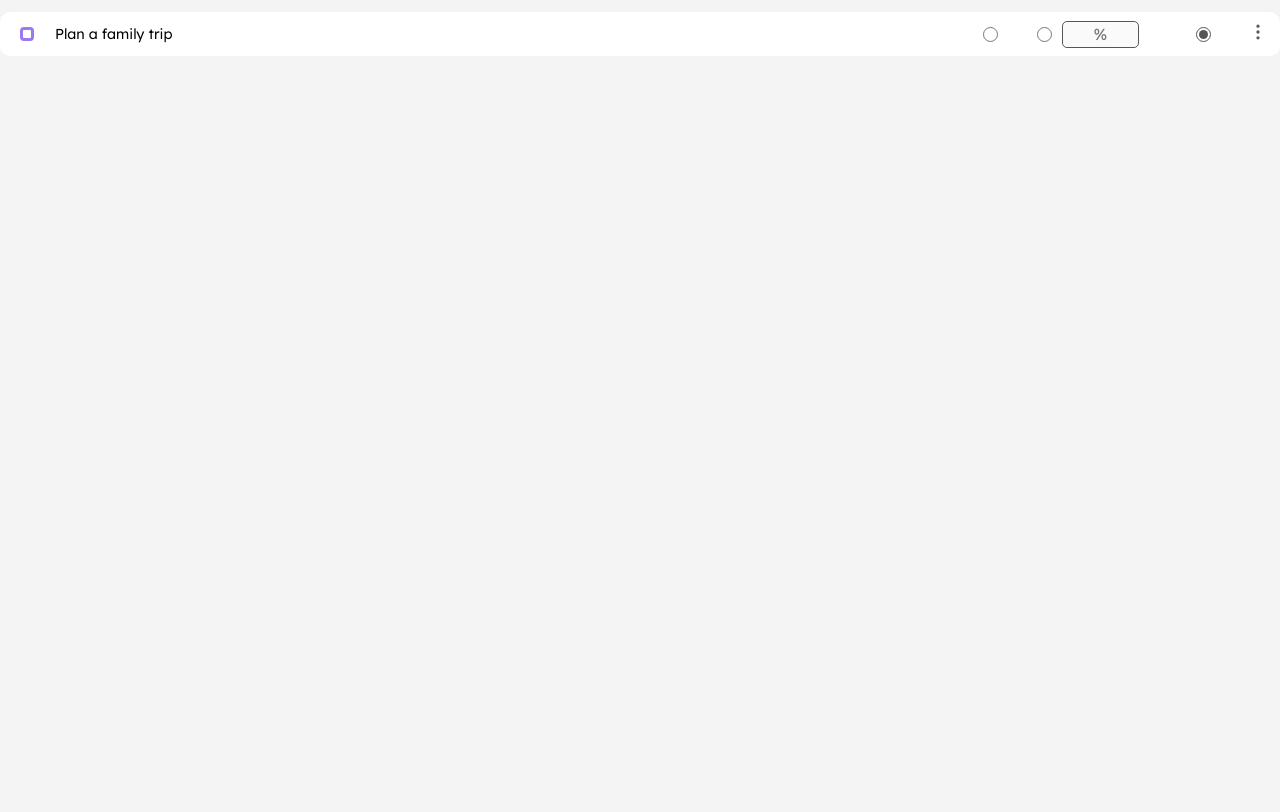
it: TaskCard › should close dropdown menu when clicking outside that element
Click the picture named "menu_vertical" at (1258, 32), box [1246,12,1270,52]
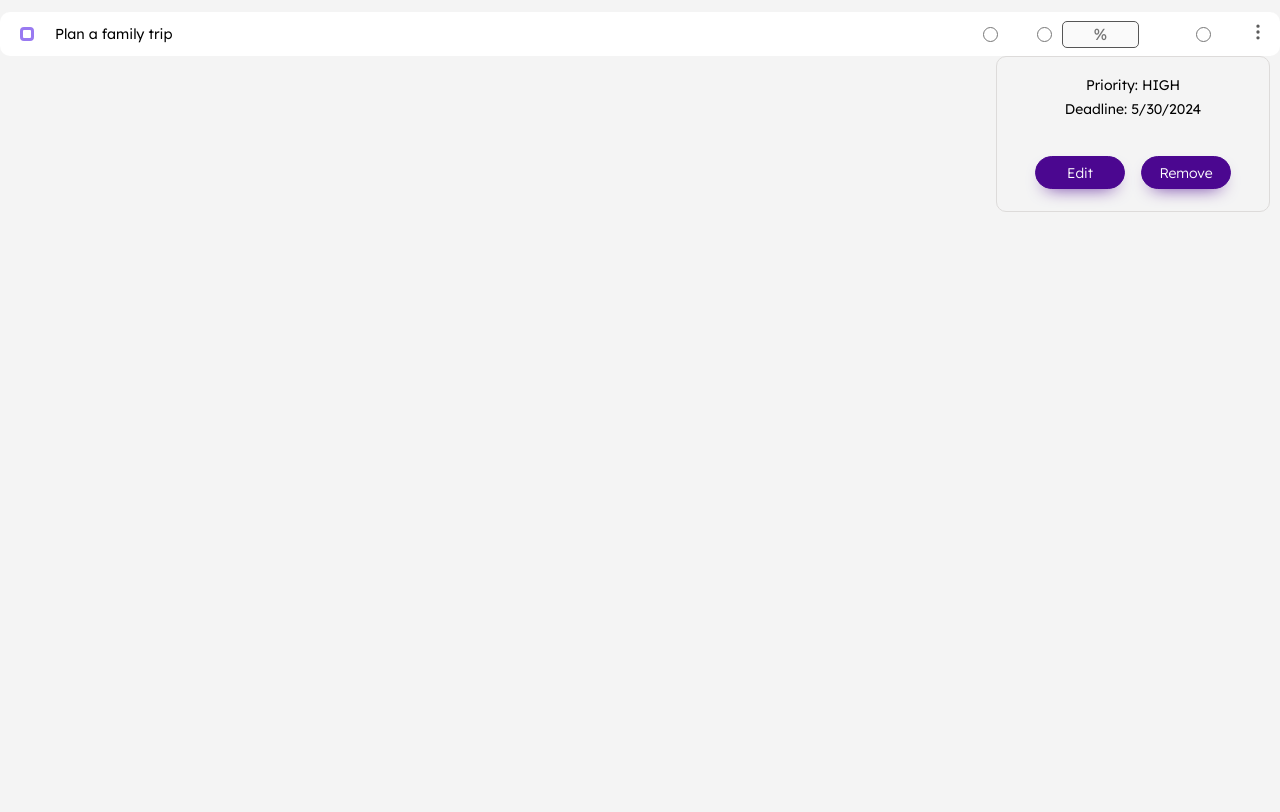
Click the element that starts with "Plan a family trip" at (640, 412), box [0,12,1279,811]
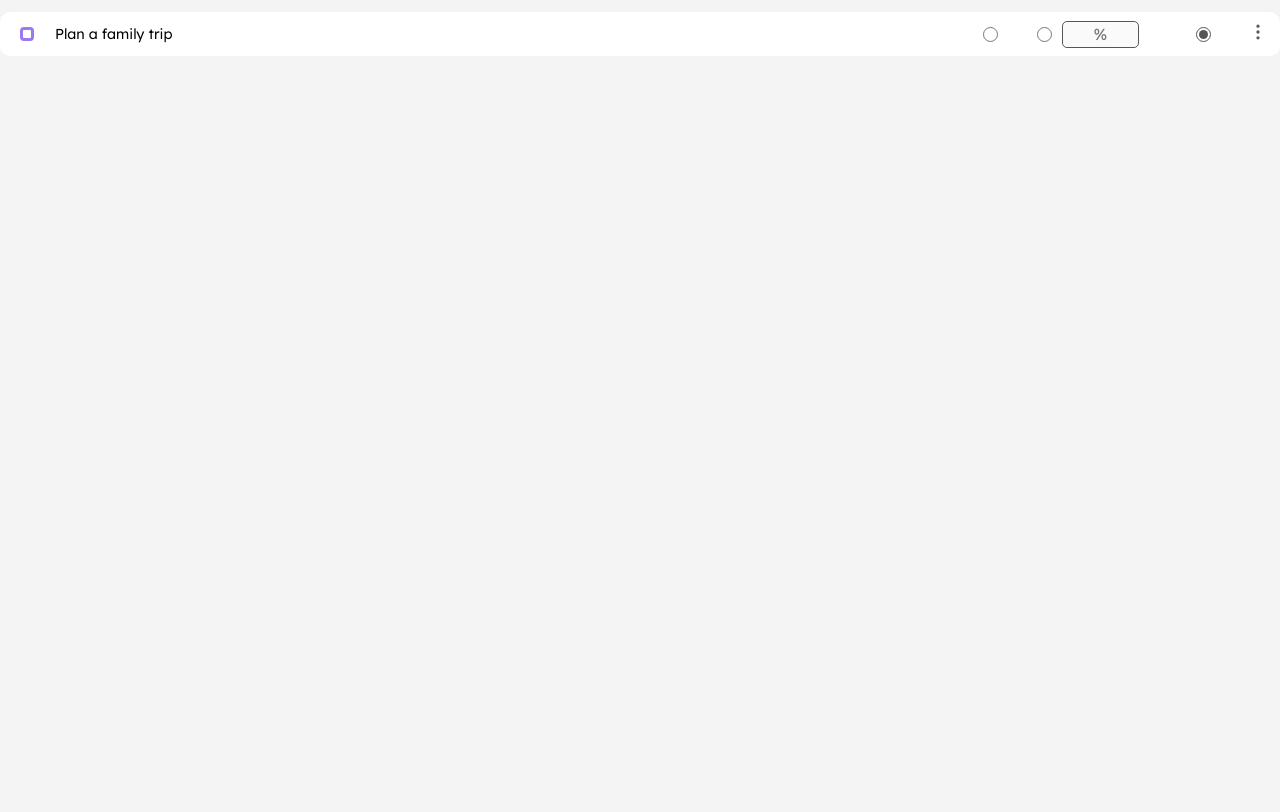
Expected: the element with test id "dropdown-content" is gone
